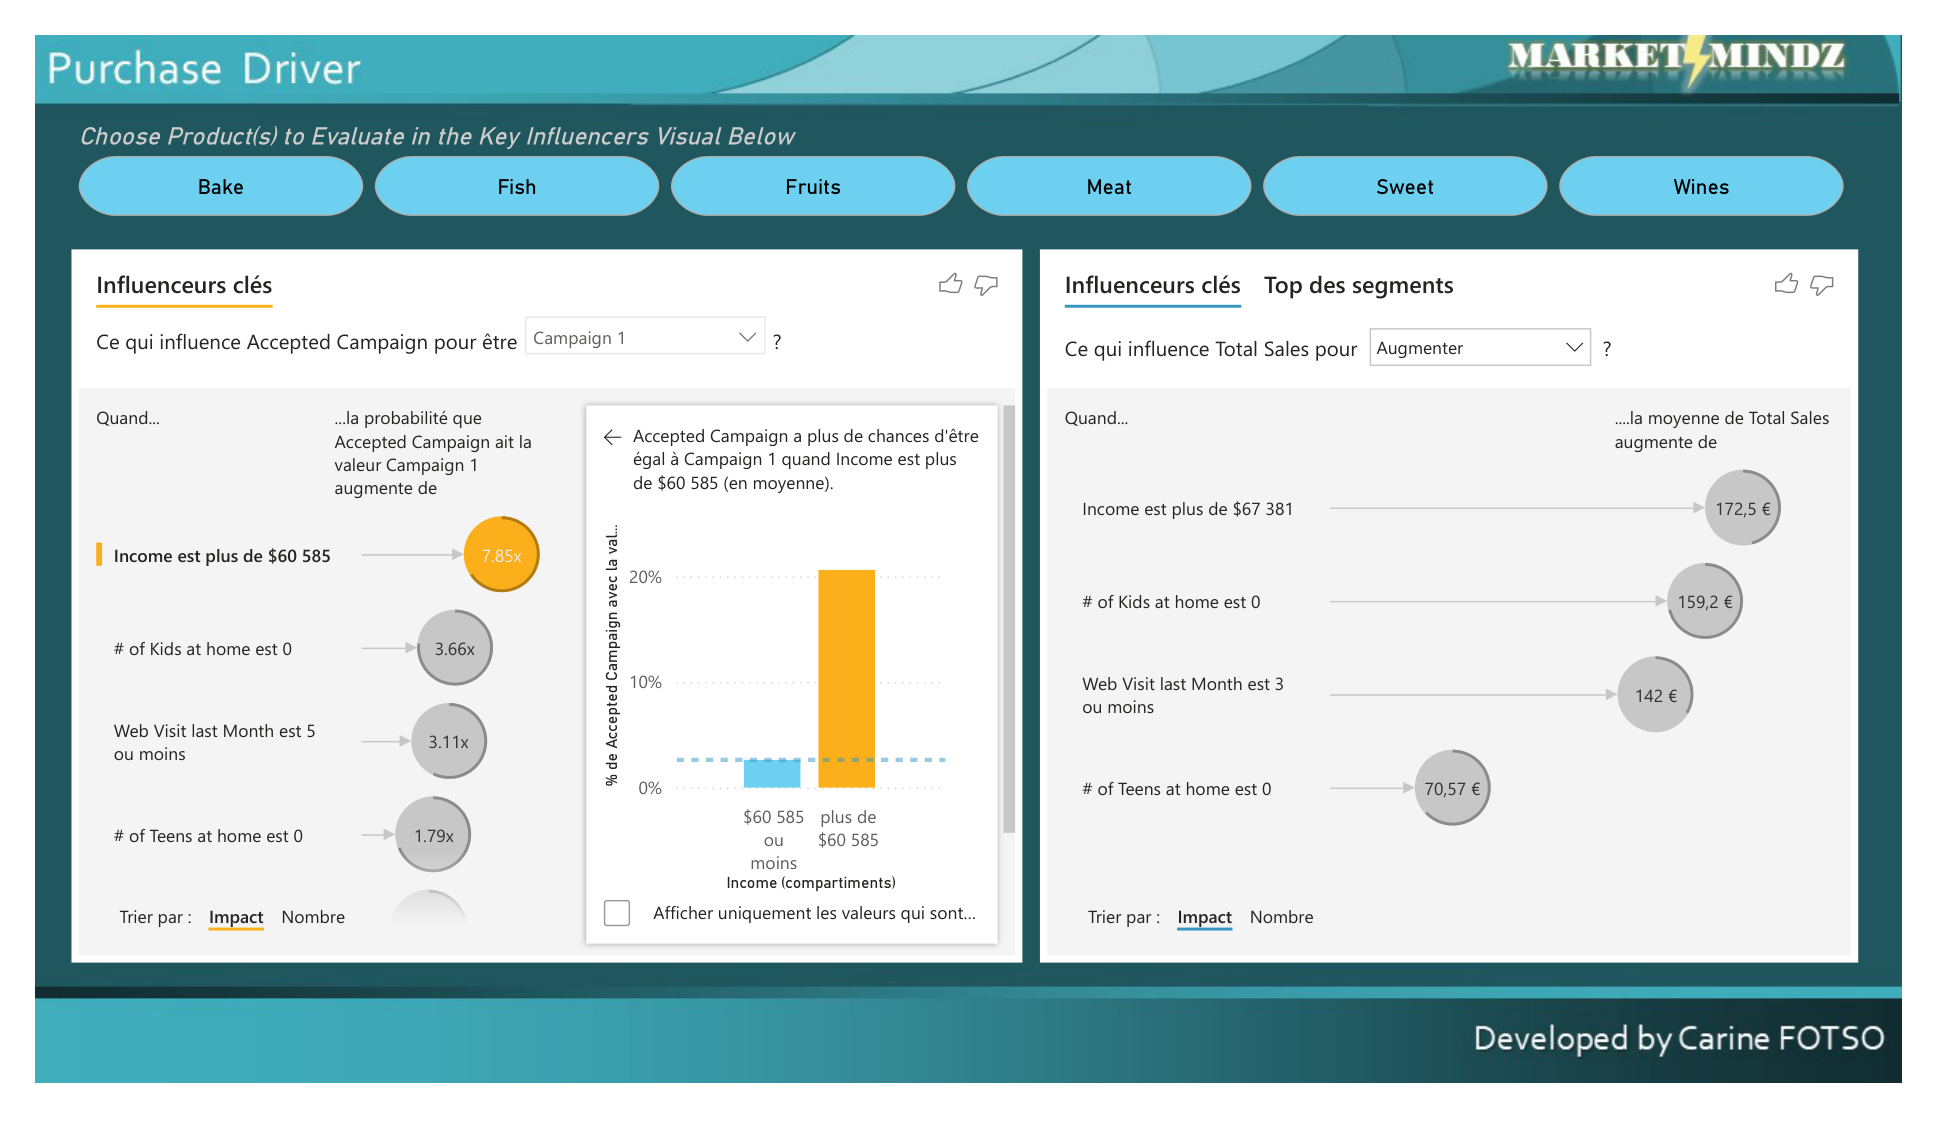

The dashboard page shown, as its layout file describes it:
{"tool":"powerbi","page":{"name":"Purchase Driver","canvas":[1280,720],"ordinal":3},"visuals":[{"type":"keyDriversVisual","fields":{"ExplainBy":["Marketing_data.Age","Marketing_data. Income ","Marketing_data.Country","Marketing_data.Education","Marketing_data.Marital_Status","Marketing_data.Teenhome","Marketing_data.Kidhome","Marketing_data.Web Visit last Month"],"Target":["Campaign.Campaign"]},"box":[25.3,146.9,651.7,489.2],"z":0},{"type":"keyDriversVisual","fields":{"ExplainBy":["Marketing_data.Age","Marketing_data. Income ","Marketing_data.Country","Marketing_data.Education","Marketing_data.Marital_Status","Marketing_data.Teenhome","Marketing_data.Kidhome","Marketing_data.Web Visit last Month"],"Target":["Products.Total Sales"]},"box":[688.6,146.9,561.2,489.2],"z":1000},{"type":"advancedSlicerVisual","title":"Choose  Product(s) to Evaluate in  the Key Influencers Visual Below","fields":{"Values":["Products.products"]},"box":[25.3,59.3,1224.6,70],"z":2000}]}

Visuals, with their boxes in screenshot pixels (x1, y1, x2, y2), scaled from the page's 1280x720 canvas onto the 1937x1121 screenshot:
keyDriversVisual - Marketing_data.Age x Marketing_data. Income : <region>38, 229, 1024, 990</region>
keyDriversVisual - Marketing_data.Age x Marketing_data. Income : <region>1042, 229, 1891, 990</region>
"Choose  Product(s) to Evaluate in  the Key Influencers Visual Below" advancedSlicerVisual: <region>38, 92, 1891, 201</region>
